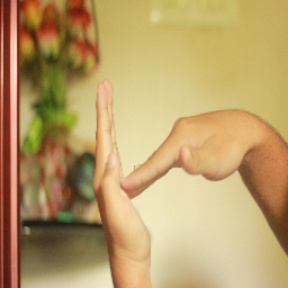Z: (83, 67, 259, 260)
